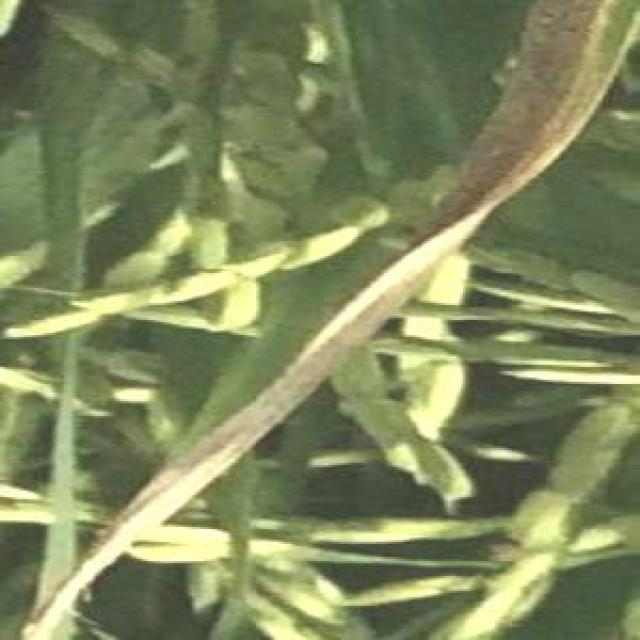Bacterial_Leaf_Blight: (230, 262, 365, 420)
